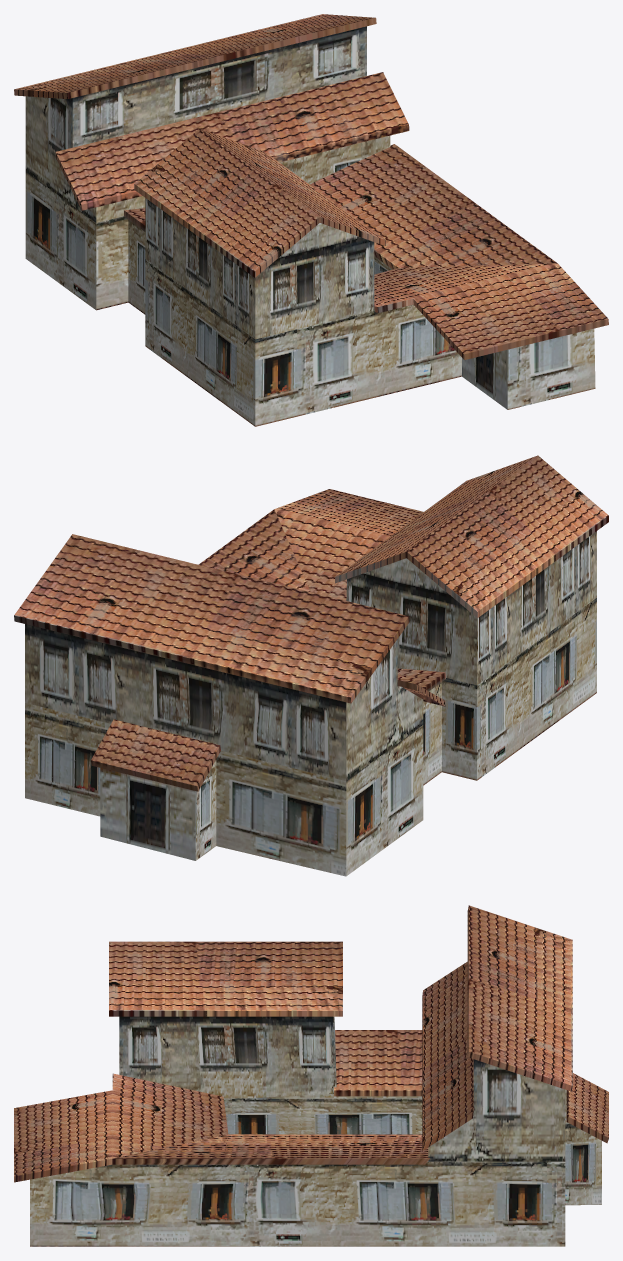
Rendered from Civilian - Residential Building - Greek House 1 - CBGREEK1.glb.
3 views of the same model, one above another, from view 1: azimuth 30°, elevation 25°; view 2: azimuth 150°, elevation 25°; view 3: azimuth 270°, elevation 25° (orthographic). The views are drawn at different scales.
Parts seen in each view (by area): view 1: CBGREEK1; view 2: CBGREEK1; view 3: CBGREEK1.
Part boxes in pixels (bbox=[...]): CBGREEK1: bbox=[14, 14, 608, 426]; CBGREEK1: bbox=[14, 455, 608, 876]; CBGREEK1: bbox=[14, 905, 608, 1246].
Bounding box in the file's own units: 73.18 × 43.8 × 119.
Materials: 1 (1 with a texture image).
